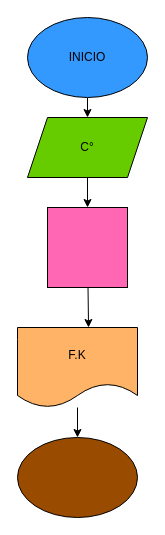
Some shapes in this 165 by 535 pixel diagram are drawn without their labels. Each missing label, with the centre of its shape:
"F=9/5 + 32 K=273.15 + C" goes at point (87, 247).
"FIN" goes at point (77, 477).
